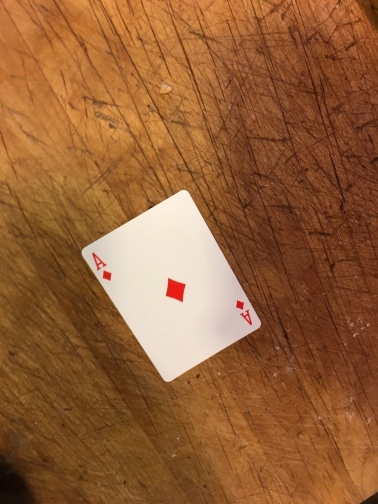ace: (80, 187, 262, 382)
